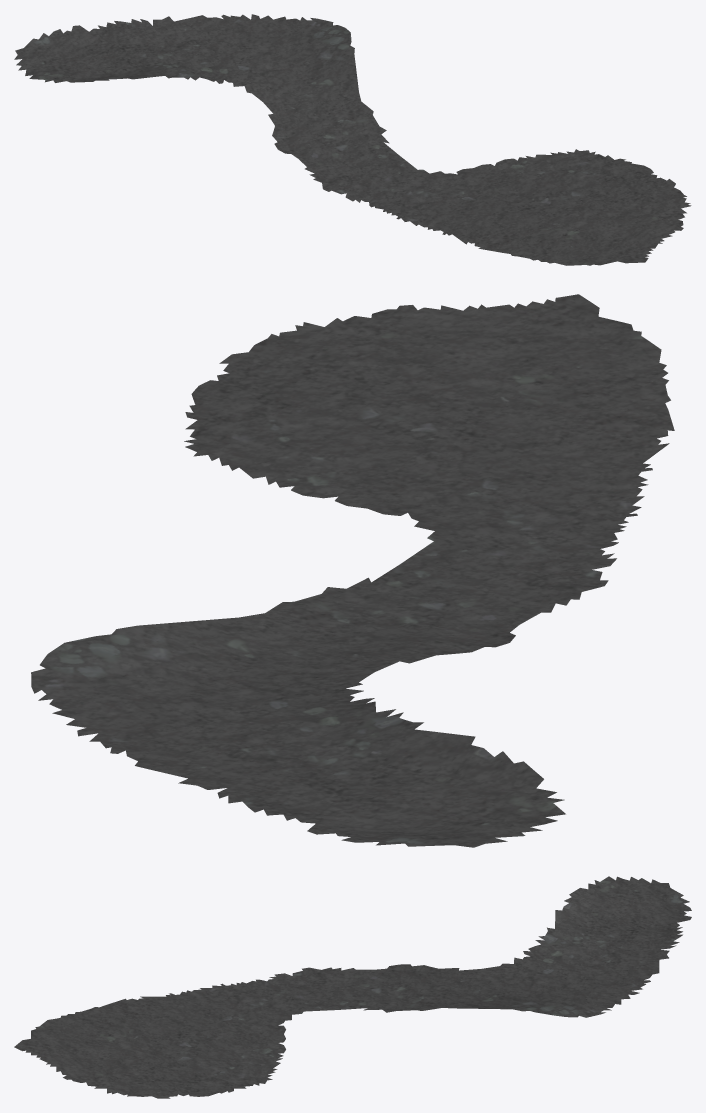
The model's file is Ground.glb.
3 views of the same model, one above another, from view 1: azimuth 30°, elevation 25°; view 2: azimuth 150°, elevation 25°; view 3: azimuth 270°, elevation 25° (orthographic). The views are drawn at different scales.
Visible parts, largest first — view 1: Ground1_1; view 2: Ground1_1; view 3: Ground1_1.
Part boxes in pixels (box(x1,y1,x2,y2)): Ground1_1: box(14, 14, 691, 265); Ground1_1: box(31, 294, 674, 847); Ground1_1: box(14, 876, 691, 1098).
Size of the model in its own units: 44.68 by 3.59 by 66.8.
Materials: 1 (1 with a texture image).
